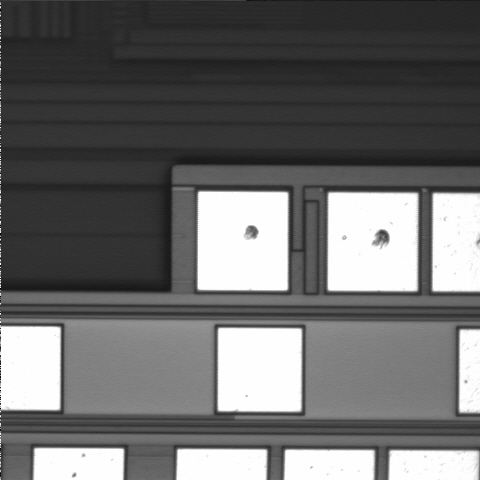pad: (198, 192, 288, 290), (328, 193, 418, 291), (218, 328, 302, 412)
